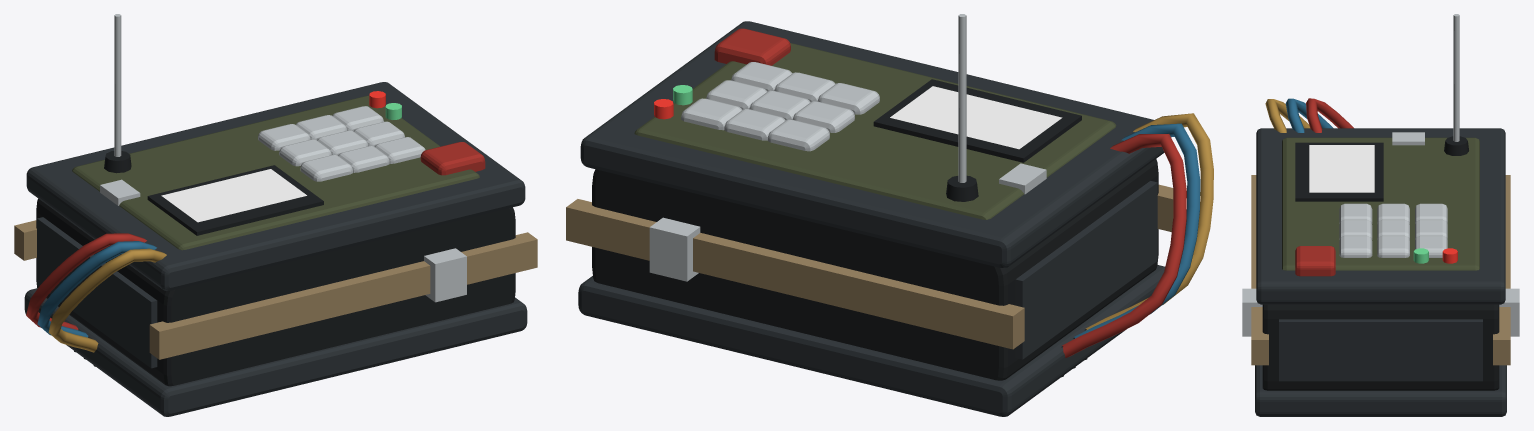
3 views of the same model, side by side, from view 1: azimuth 30°, elevation 25°; view 2: azimuth 150°, elevation 25°; view 3: azimuth 270°, elevation 25° (orthographic). The views are drawn at different scales.
Parts seen in each view (by area): view 1: c4; view 2: c4; view 3: c4.
Part boxes in pixels (x1=…): c4: x1=14, y1=14, x2=537, y2=416; c4: x1=566, y1=14, x2=1213, y2=416; c4: x1=1242, y1=14, x2=1519, y2=416.
Bounding box in the file's own units: 0.3606 × 0.24 × 0.22.
